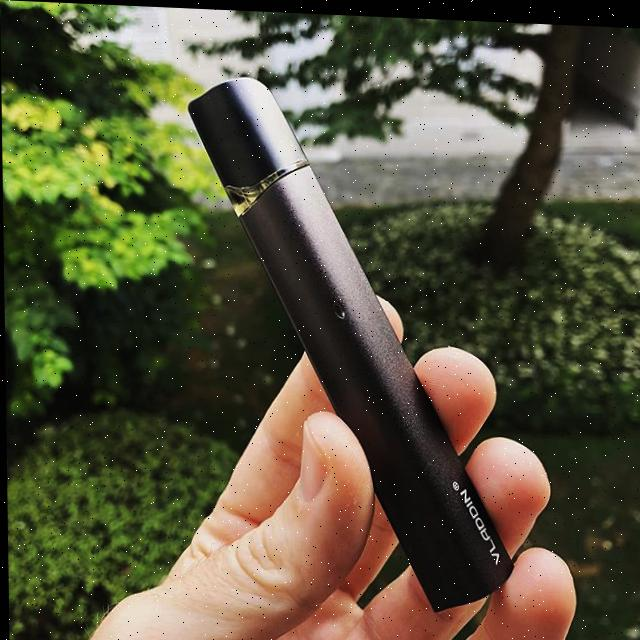vape: (188, 73, 515, 609)
